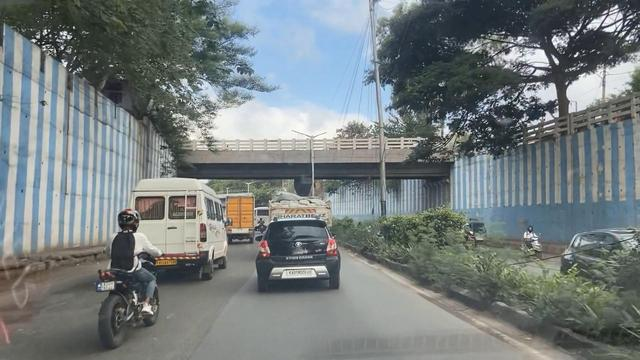HMV: (119, 171, 225, 279), (224, 195, 254, 240)
LMV: (87, 196, 154, 350), (252, 214, 336, 288)
